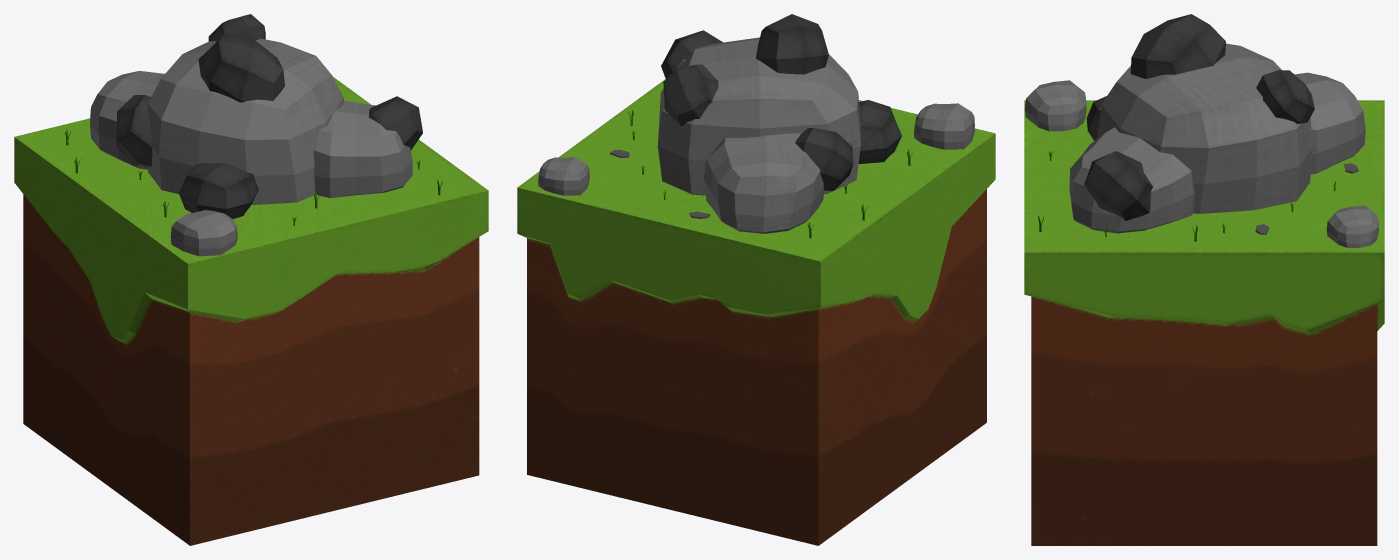
File: Concepts_16.fbx
The picture shows the model from 3 angles, left to right: view 1: azimuth 30°, elevation 25°; view 2: azimuth 150°, elevation 25°; view 3: azimuth 270°, elevation 25°; orthographic projection. The views are drawn at different scales.
Visible parts, largest first — view 1: Cube.165, Cube.002, Cube.166; view 2: Cube.165, Cube.002, Cube.166, Cube.167; view 3: Cube.165, Cube.002, Cube.166, Cube.167.
Boxes of the visible parts, x1,y1,x2,y2 form: Cube.165: (14,77,488,545); Cube.002: (90,38,412,256); Cube.166: (116,14,422,218); Cube.165: (517,79,995,545); Cube.002: (538,37,974,233); Cube.166: (661,14,901,190); Cube.167: (610,110,912,238); Cube.165: (1024,100,1384,545); Cube.002: (1024,43,1378,247); Cube.166: (1084,14,1314,220); Cube.167: (1038,151,1358,241).
Size of the model in its own units: 301 by 405 by 301.
